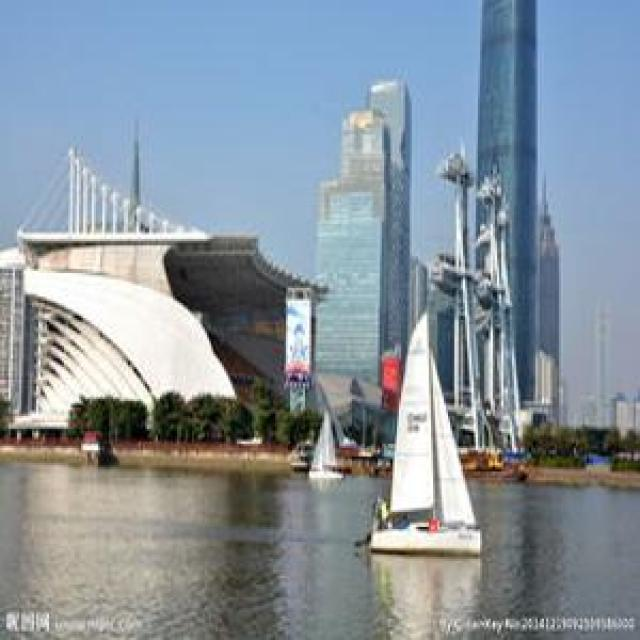sailboat: (364, 312, 490, 559), (308, 405, 346, 487)
